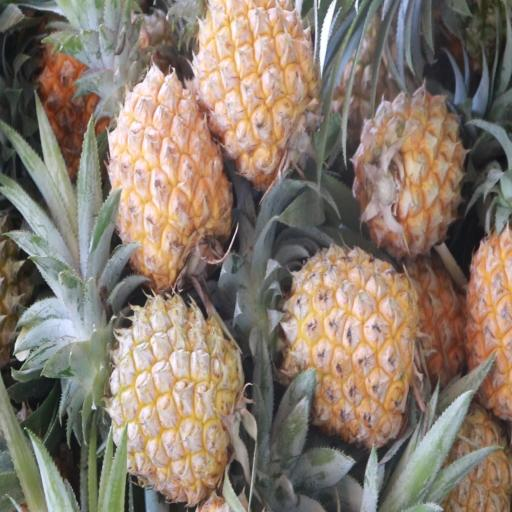Pineapple - v8 v1: (107, 293, 239, 495), (107, 71, 232, 283), (288, 250, 419, 446), (194, 0, 320, 173), (357, 89, 463, 253)
